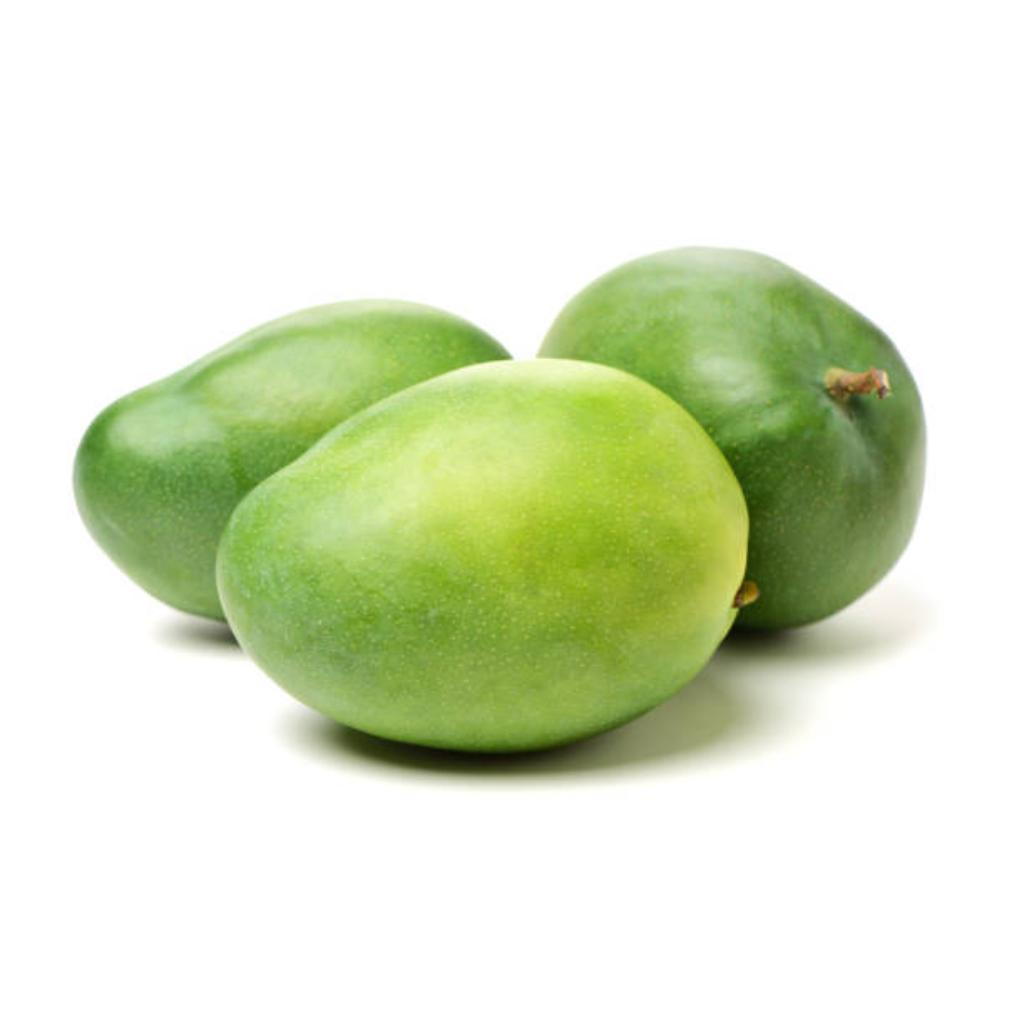mango: (218, 359, 748, 751), (540, 247, 926, 628), (74, 299, 510, 618)
